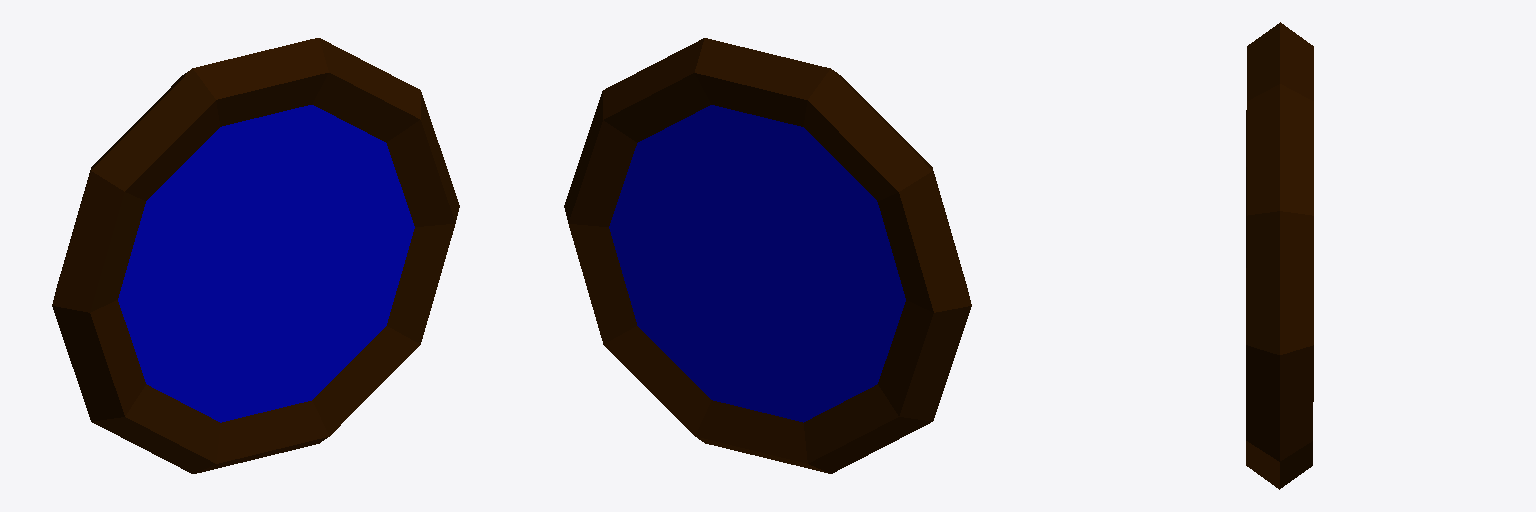
File: ring.obj
3 renders of one model, left to right at view 1: azimuth 30°, elevation 25°; view 2: azimuth 150°, elevation 25°; view 3: azimuth 270°, elevation 25°, orthographic.
Parts seen in each view (by area): view 1: Torus; view 2: Torus; view 3: Torus.
Boxes of the visible parts, box(x1,y1,x2,y2) form: Torus: box(52, 38, 459, 473); Torus: box(564, 38, 971, 473); Torus: box(1246, 22, 1313, 489).
Size of the model in its own units: 27.16 by 25.83 by 3.93.